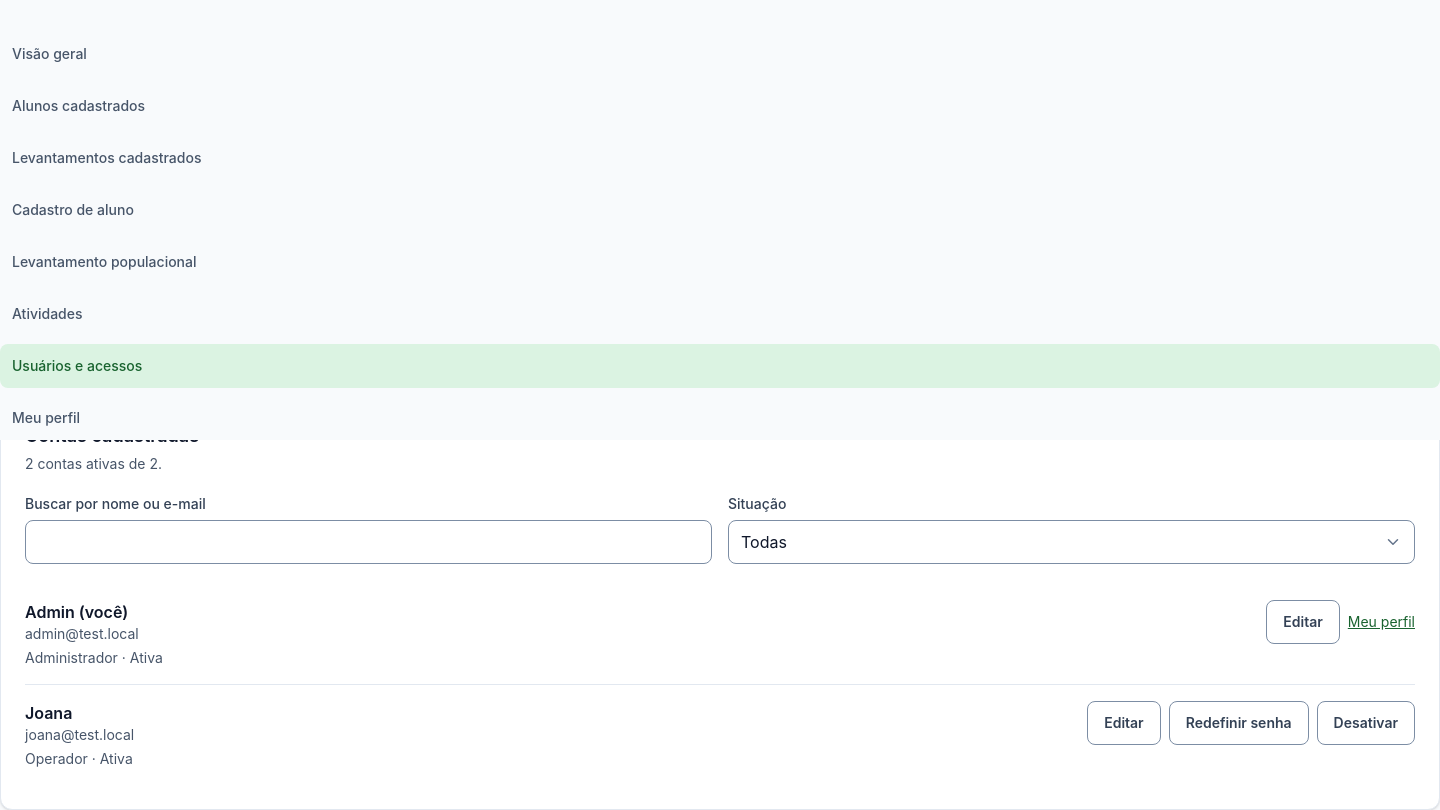
Test case: protege a própria conta e confirma desativação de outras pessoas
(page scrolled)
Expected: the text "Joana" is shown, x1=25 y1=703 x2=72 y2=723
Step 1. Click the button with aria-label "Desativar Joana" → (1366, 723), box x1=1317 y1=701 x2=1415 y2=745
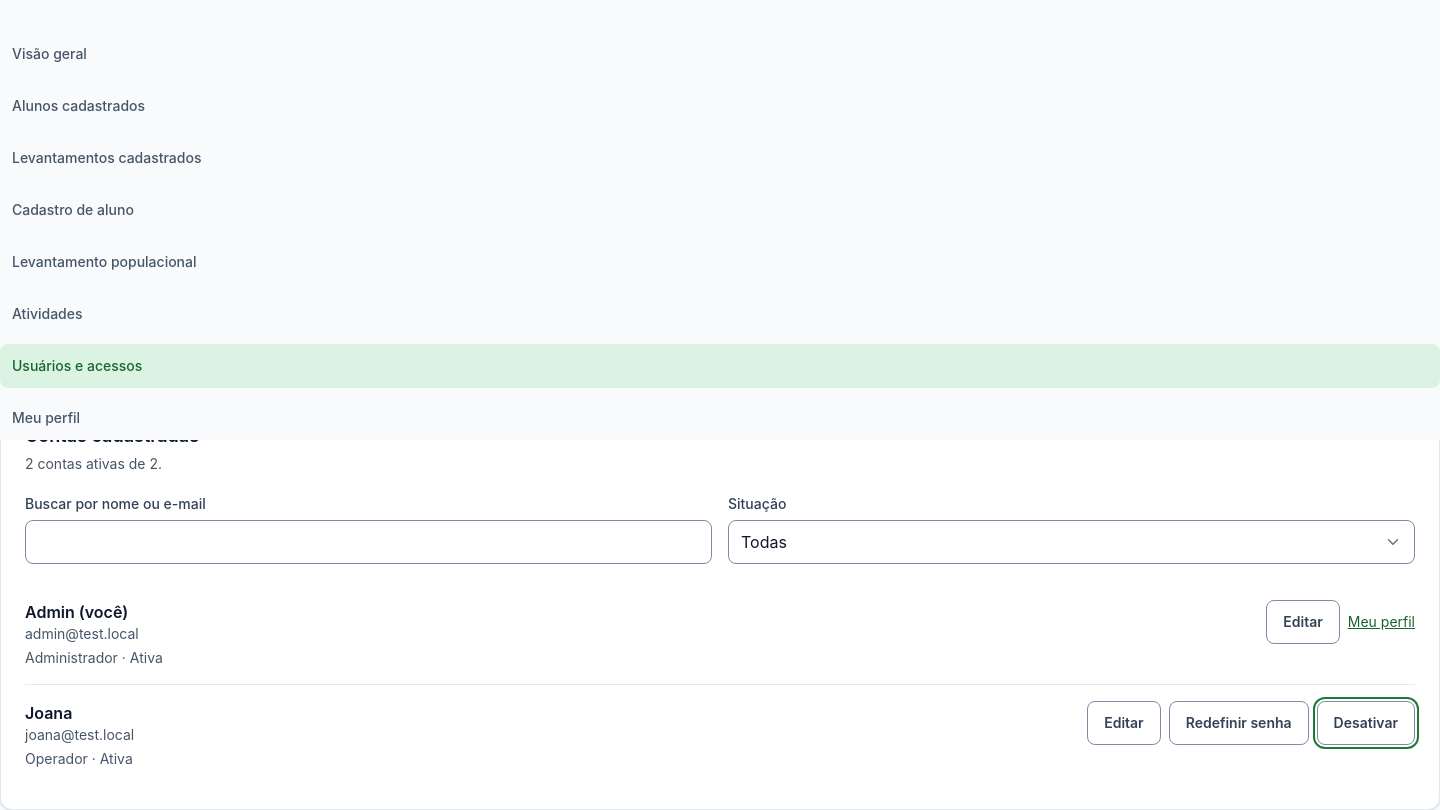
Step 2. Click the button with aria-label "Desativar Joana" → (1366, 723), box x1=1317 y1=701 x2=1415 y2=745
(page scrolled)
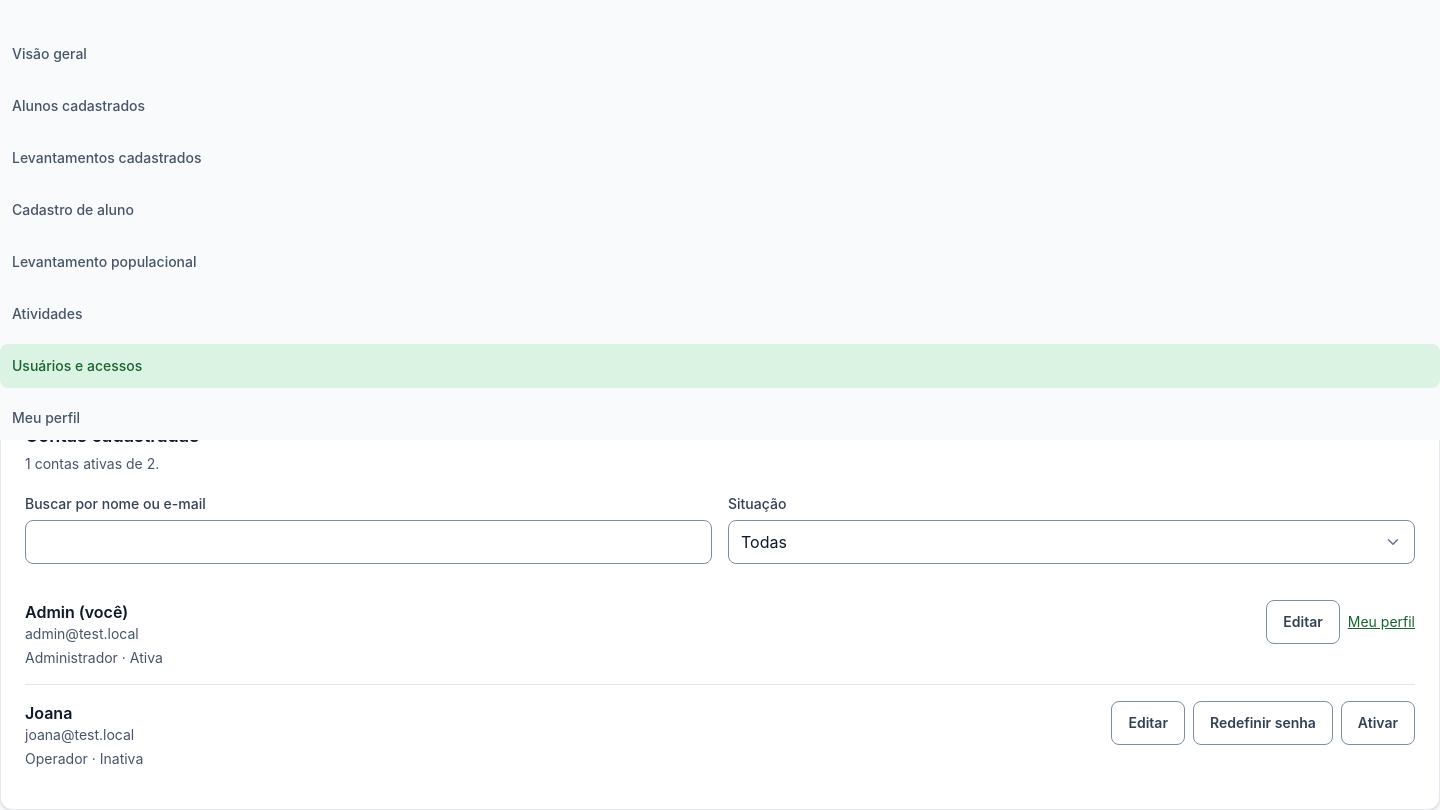
Step 3. Click the button with aria-label "Ativar Joana" → (1378, 723), box x1=1341 y1=701 x2=1415 y2=745
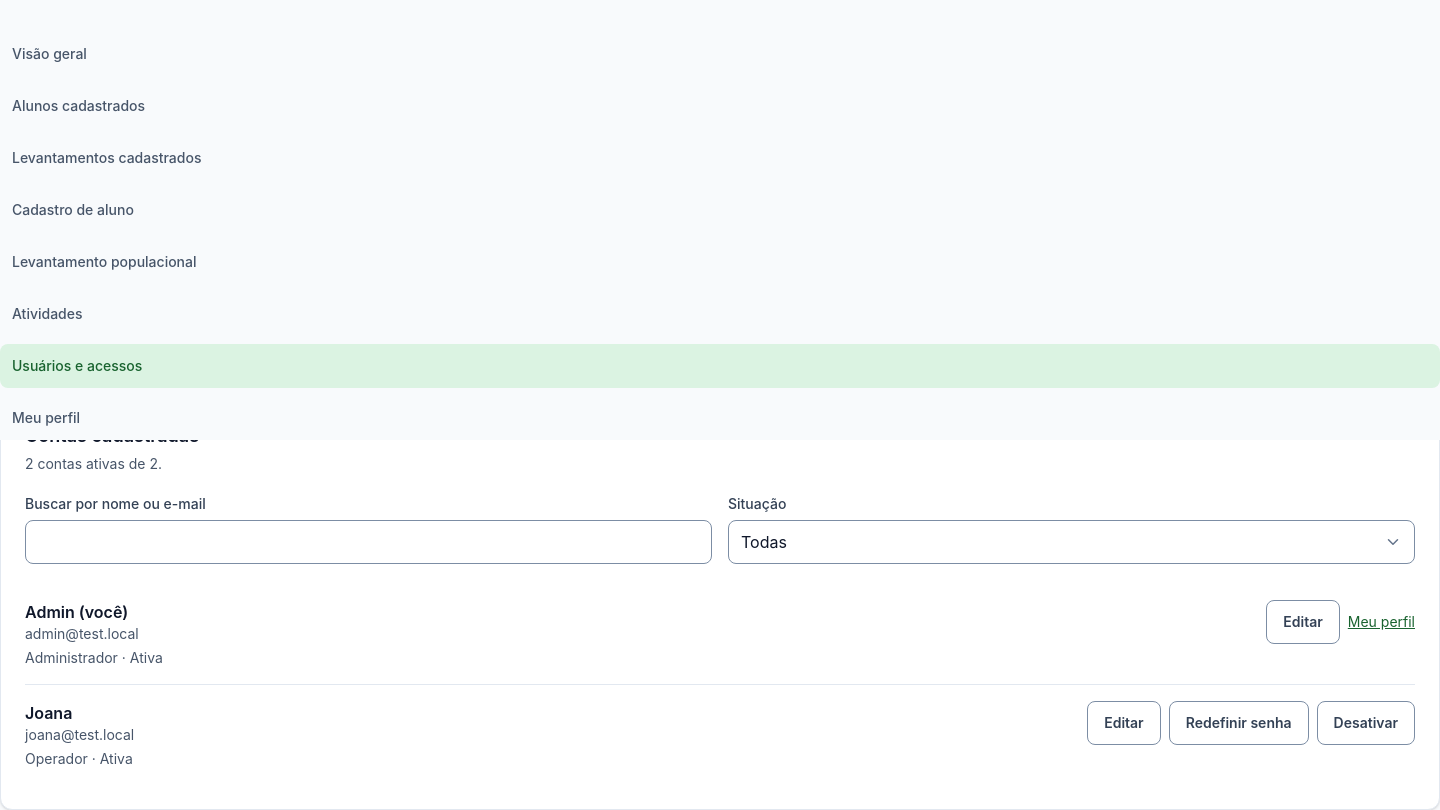
Expected: the button with aria-label "Desativar Joana" is shown, x1=1317 y1=701 x2=1415 y2=745
Step 4. Click the button with aria-label "Editar Admin" → (1303, 622), box x1=1266 y1=600 x2=1340 y2=644
(page scrolled)
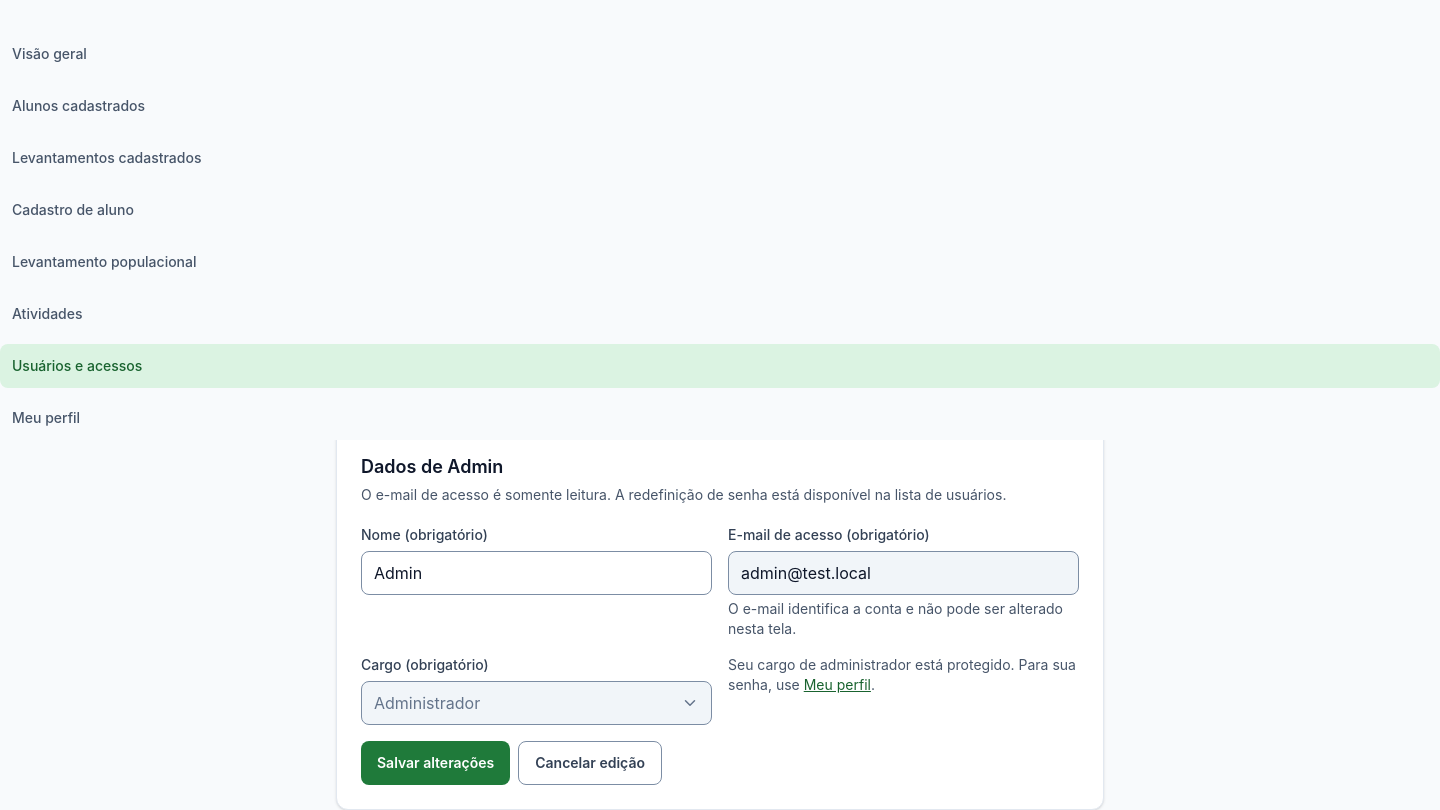
Expected: the field showing "Admin" is shown, x1=361 y1=551 x2=712 y2=595
Expected: the dropdown labelled "Cargo (obrigatório)" is disabled, x1=361 y1=681 x2=712 y2=725
Step 5. Click the button "Salvar alterações" → (436, 763), box x1=361 y1=741 x2=510 y2=785
(page scrolled)
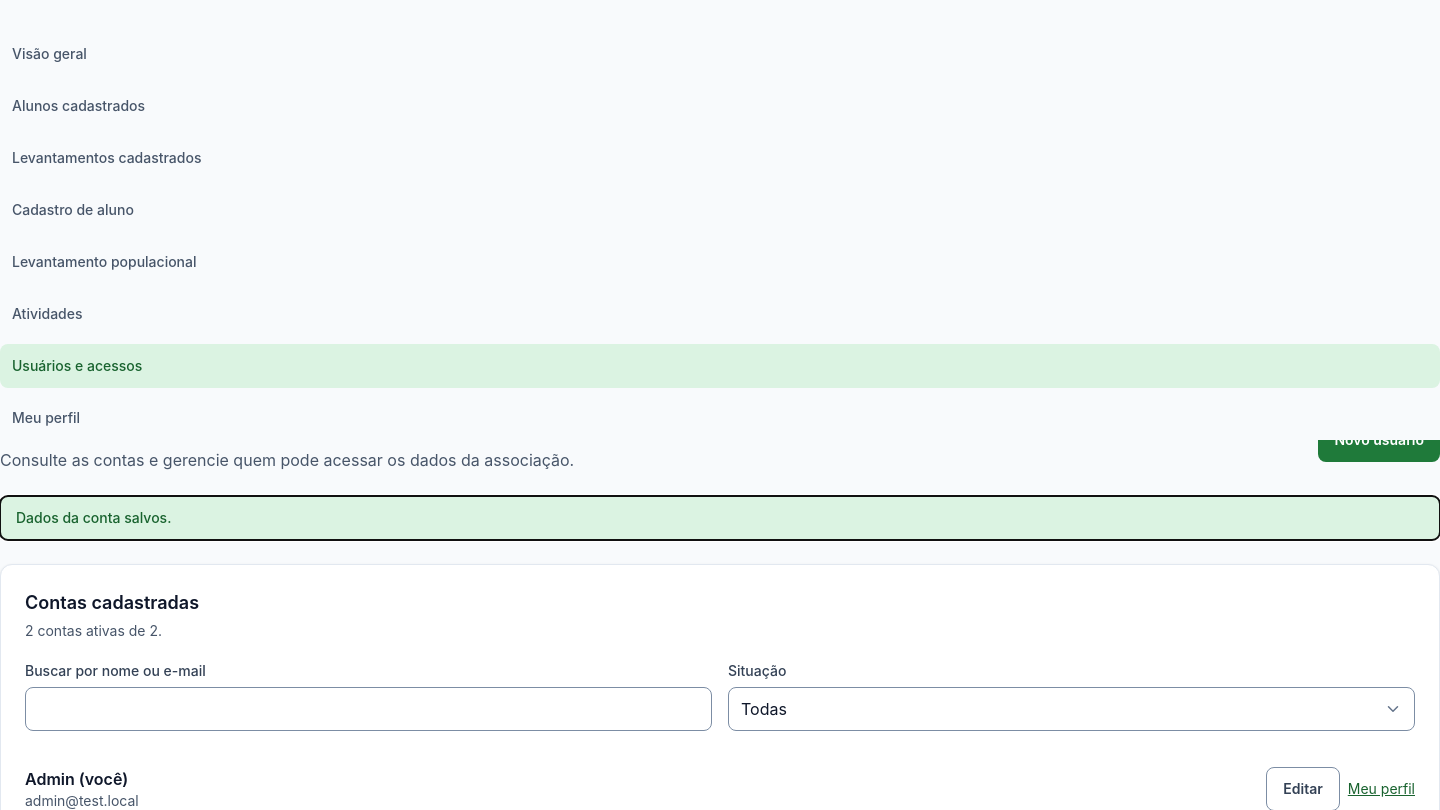
Expected: the button "Salvar alterações" is gone
